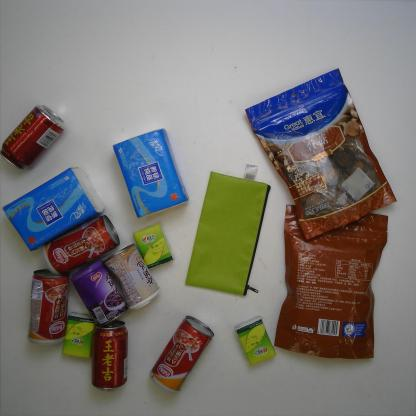Canned Food: (146, 315, 217, 397), (42, 213, 121, 279), (102, 240, 156, 310), (27, 266, 71, 348), (74, 258, 120, 320)
Dried Food: (244, 65, 398, 243), (275, 202, 390, 365)
Drink: (0, 103, 67, 173), (91, 320, 136, 394)
Stationery: (184, 160, 272, 304)
Tissue: (3, 164, 107, 252), (111, 126, 196, 218), (236, 318, 277, 368), (62, 311, 98, 361), (134, 223, 174, 267)
